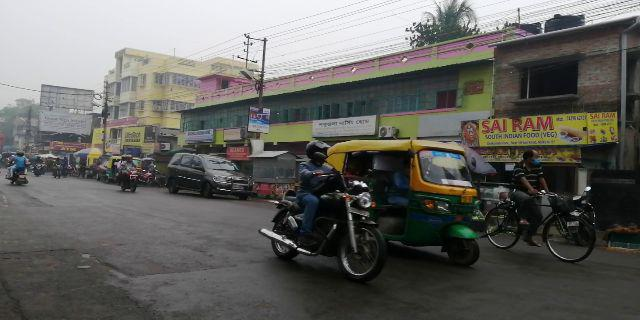Autorickshaw: (326, 135, 486, 270)
Car: (171, 151, 252, 201)
Cycle: (487, 148, 596, 261)
Motorbike: (264, 142, 387, 287), (115, 151, 145, 193)
